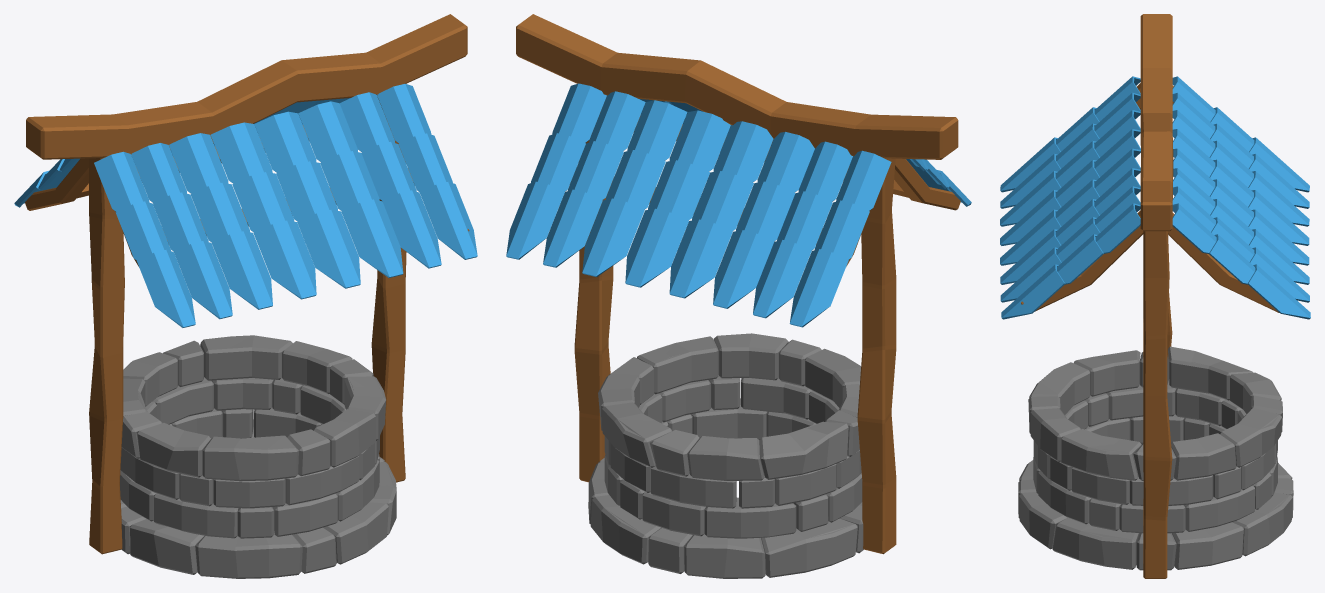
Rendered from welljp.fbx.
3 views of the same model, side by side, from view 1: azimuth 30°, elevation 25°; view 2: azimuth 150°, elevation 25°; view 3: azimuth 270°, elevation 25° (orthographic). The views are drawn at different scales.
Visible parts, largest first — view 1: Plane.001, well3, roofrod, well2, well, rod.001, well1, rod, roof2, Plane; view 2: Plane, well3, roofrod, well2, well, rod.001, well1, rod, roof3, Plane.001; view 3: Plane.001, Plane, well3, well, well2, rod, well1, roofrod, roof1, roof4.
Boxes of the visible parts, left/top/right/bottom form: Plane.001: left=94, top=83, right=477, bottom=327; well3: left=121, top=335, right=386, bottom=481; roofrod: left=26, top=14, right=467, bottom=159; well2: left=120, top=377, right=379, bottom=508; well: left=120, top=419, right=396, bottom=578; rod.001: left=89, top=158, right=124, bottom=554; well1: left=120, top=407, right=379, bottom=538; rod: left=371, top=97, right=406, bottom=482; roof2: left=25, top=158, right=88, bottom=210; Plane: left=14, top=98, right=350, bottom=207; Plane: left=506, top=83, right=891, bottom=327; well3: left=598, top=333, right=861, bottom=480; roofrod: left=516, top=14, right=958, bottom=159; well2: left=604, top=375, right=861, bottom=508; well: left=588, top=440, right=863, bottom=578; rod.001: left=857, top=158, right=896, bottom=554; well1: left=604, top=398, right=862, bottom=538; rod: left=574, top=112, right=613, bottom=482; roof3: left=894, top=158, right=960, bottom=210; Plane.001: left=639, top=99, right=971, bottom=206; Plane.001: left=1000, top=76, right=1140, bottom=319; Plane: left=1172, top=76, right=1310, bottom=319; well3: left=1028, top=346, right=1282, bottom=480; well: left=1018, top=443, right=1293, bottom=570; well2: left=1033, top=379, right=1277, bottom=505; rod: left=1143, top=231, right=1172, bottom=578; well1: left=1033, top=414, right=1277, bottom=533; roofrod: left=1140, top=14, right=1173, bottom=231; roof1: left=1168, top=213, right=1278, bottom=312; roof4: left=1021, top=210, right=1143, bottom=311.
Size of the model in its own units: 618 by 616 by 427.
